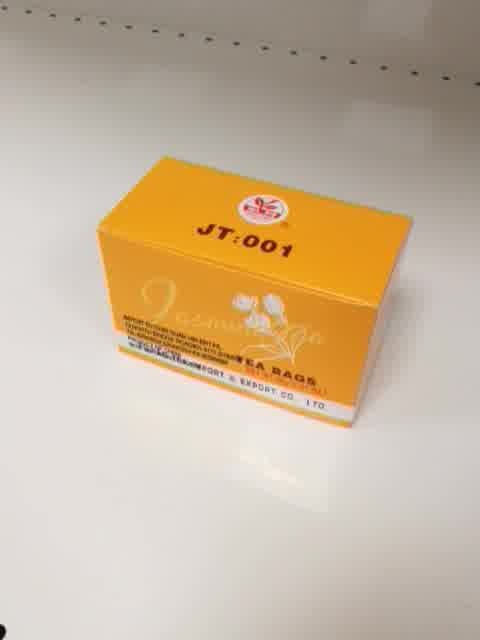jasminetea: (94, 155, 415, 430)
